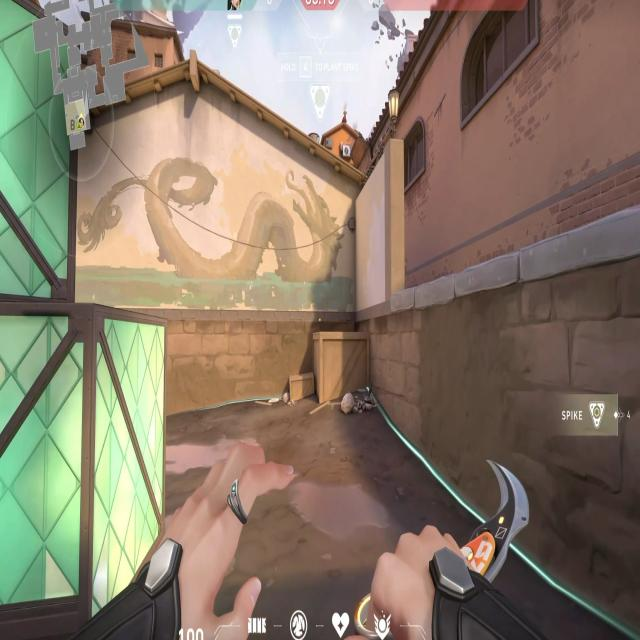Throwables: (455, 0, 552, 133), (401, 108, 430, 182)
